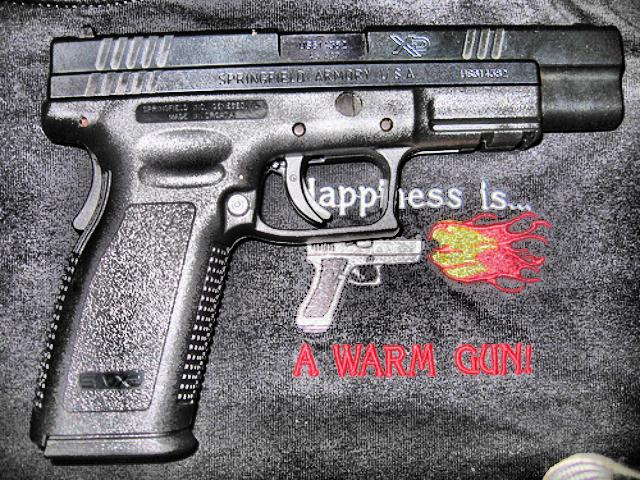pistol: (24, 20, 624, 458), (296, 228, 426, 332)
